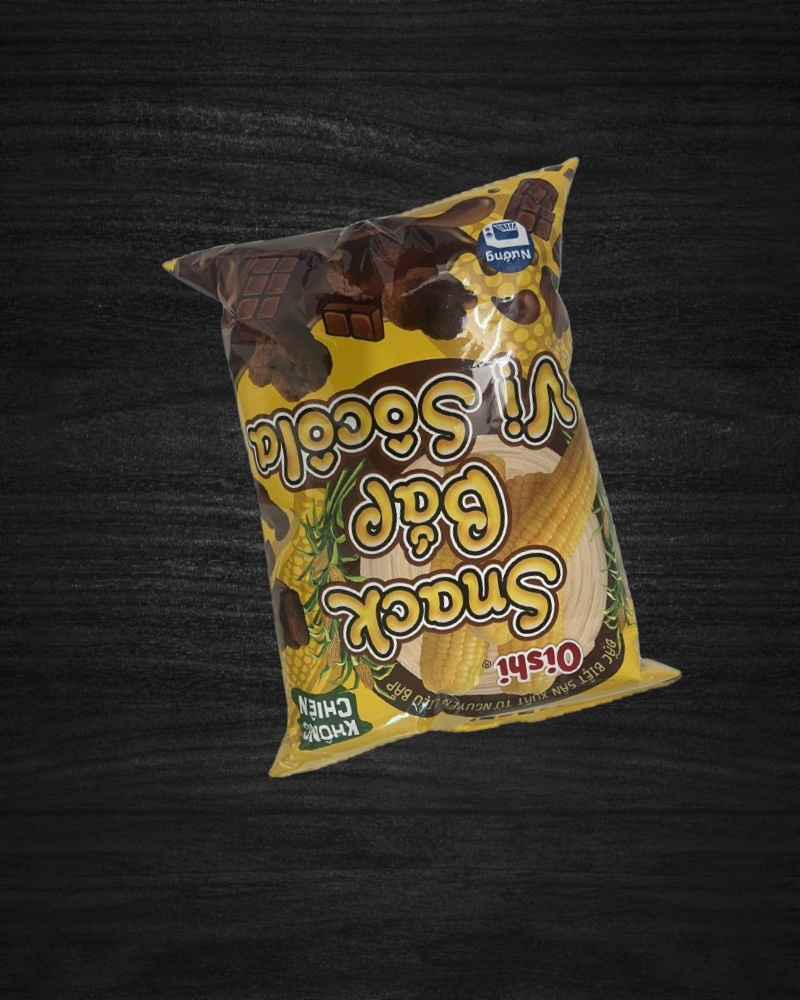Snack socola: (158, 157, 688, 781)
